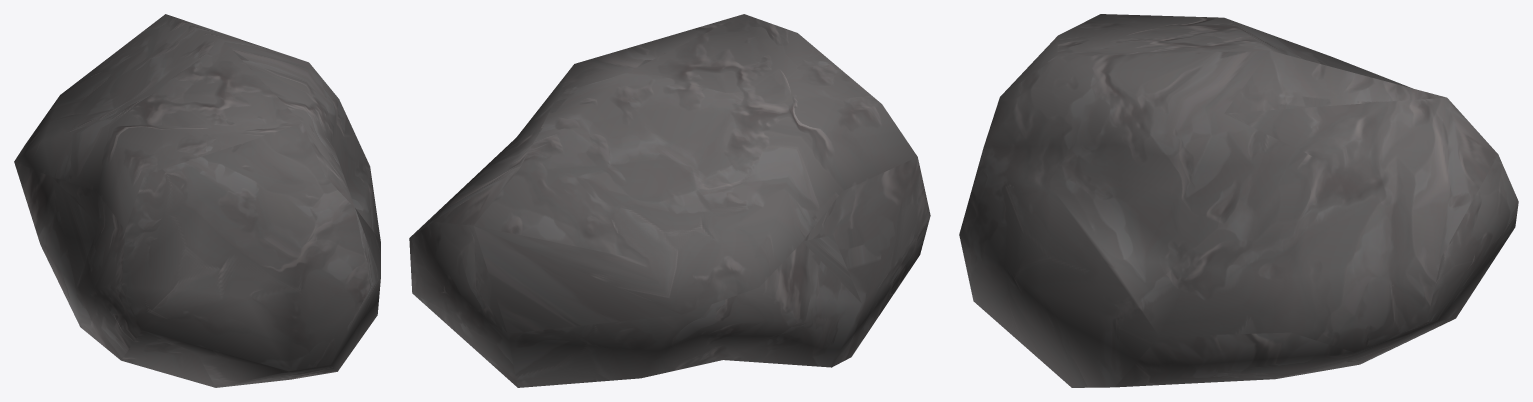
Rendered from rock3.fbx.
3 views of the same model, side by side, from view 1: azimuth 30°, elevation 25°; view 2: azimuth 150°, elevation 25°; view 3: azimuth 270°, elevation 25° (orthographic). The views are drawn at different scales.
Parts seen in each view (by area): view 1: Cube; view 2: Cube; view 3: Cube.
Part boxes in pixels (box(x1,y1,x2,y2)): Cube: box(14, 14, 380, 387); Cube: box(409, 14, 930, 387); Cube: box(959, 14, 1518, 387).
Bounding box in the file's own units: 220 × 196 × 298.
